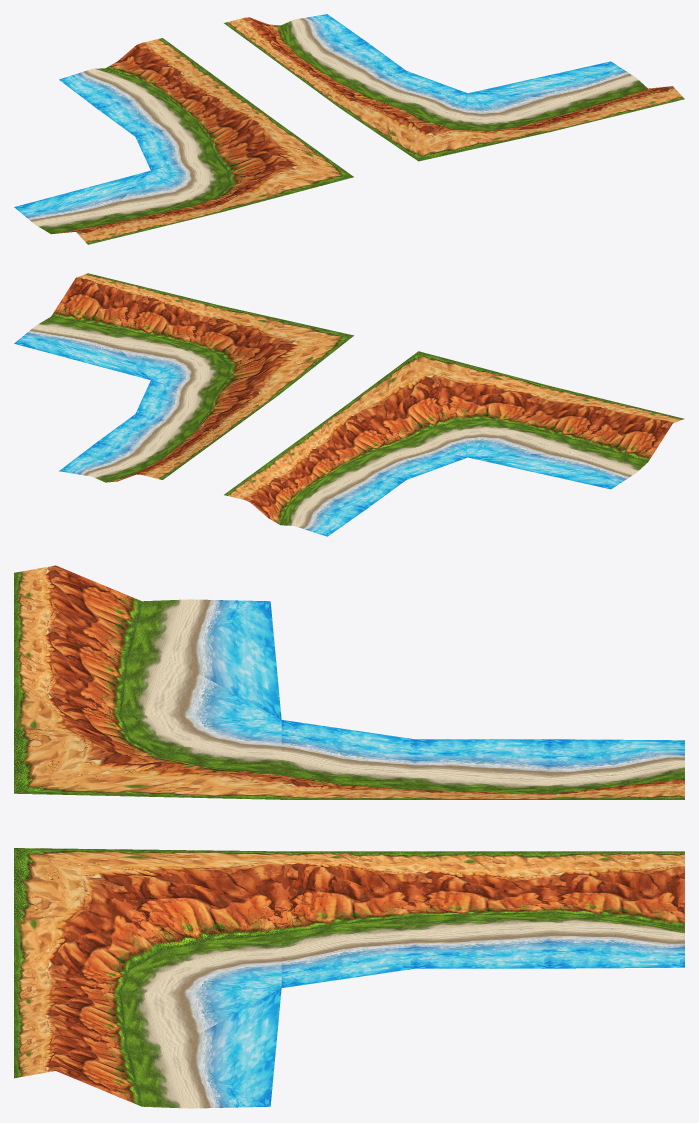
Rendered from bch_end_mid.fbx.
3 views of the same model, one above another, from view 1: azimuth 30°, elevation 25°; view 2: azimuth 150°, elevation 25°; view 3: azimuth 270°, elevation 25° (orthographic). The views are drawn at different scales.
Parts seen in each view (by area): view 1: bch_end_mid; view 2: bch_end_mid; view 3: bch_end_mid.
Part boxes in pixels (x1,y1,x2,y2): bch_end_mid: (14,14,684,244); bch_end_mid: (14,273,684,536); bch_end_mid: (14,565,684,1108).
Bounding box in the file's own units: 17955 × 589 × 10000.
